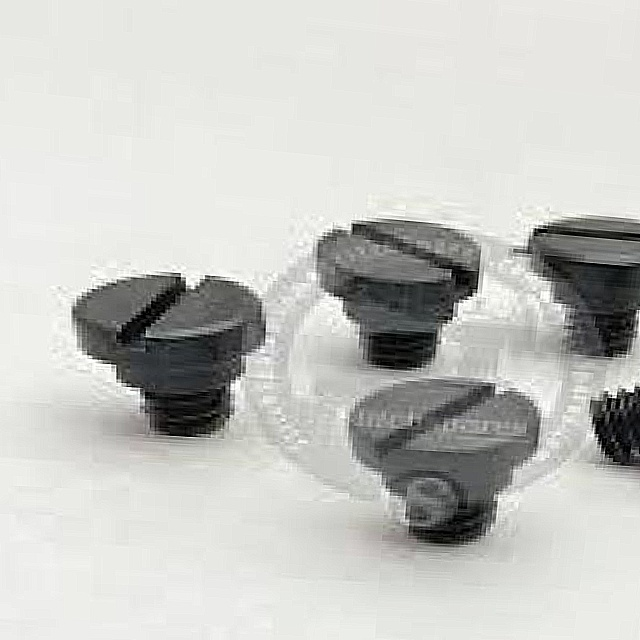duz: (343, 367, 546, 474), (70, 258, 270, 366), (314, 205, 489, 310), (528, 204, 640, 292)
